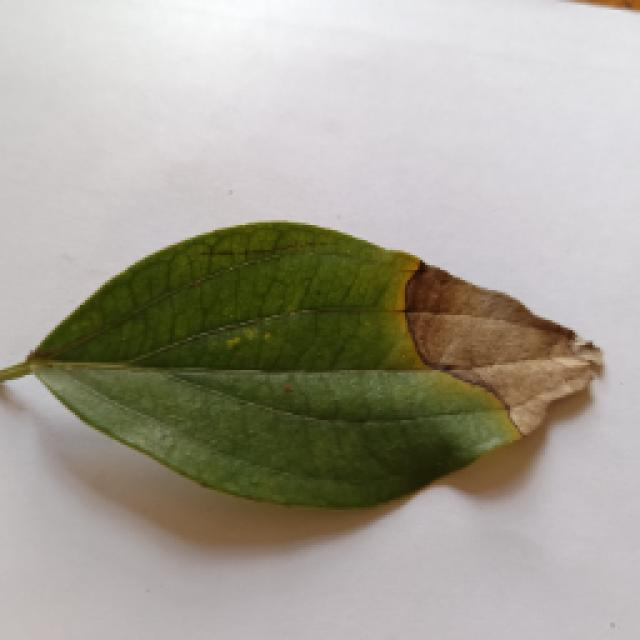footrot: (0, 207, 602, 517)
